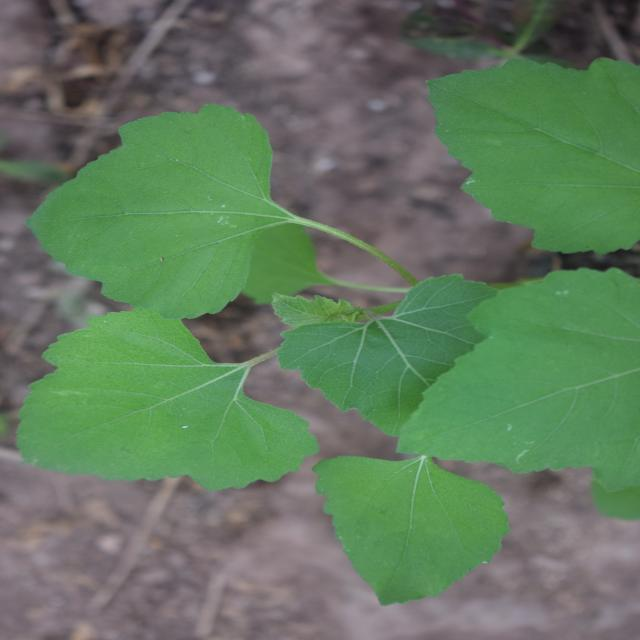cocklebur: (31, 21, 568, 597)
